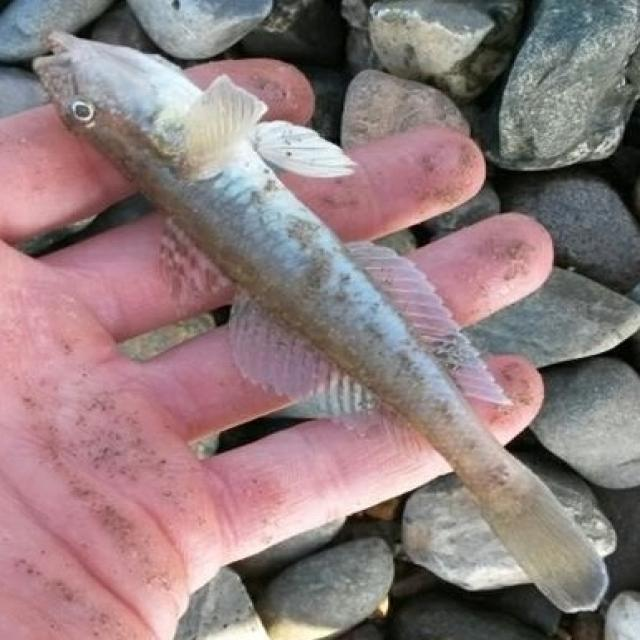Goby: (18, 7, 640, 618)
